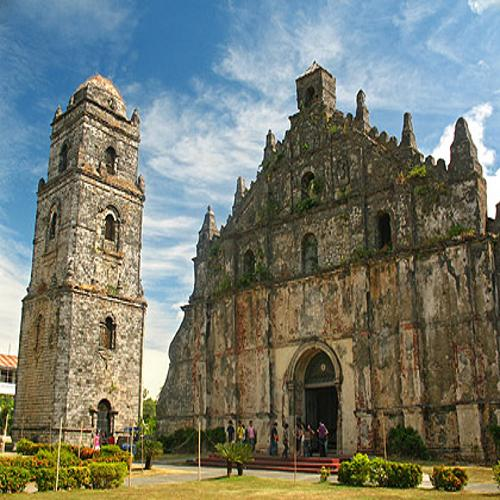Paoay Church: (10, 62, 500, 458)
